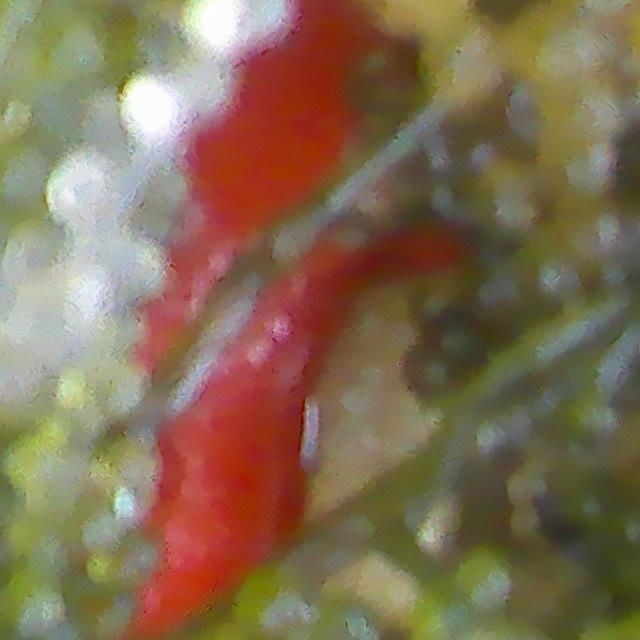SeaGrape: (44, 7, 116, 88), (111, 69, 183, 146), (48, 151, 125, 223), (0, 215, 71, 289), (0, 564, 69, 639), (448, 544, 517, 616), (0, 137, 53, 218), (230, 574, 305, 628), (177, 0, 236, 56), (60, 245, 113, 307), (188, 53, 234, 109), (324, 607, 374, 640)
